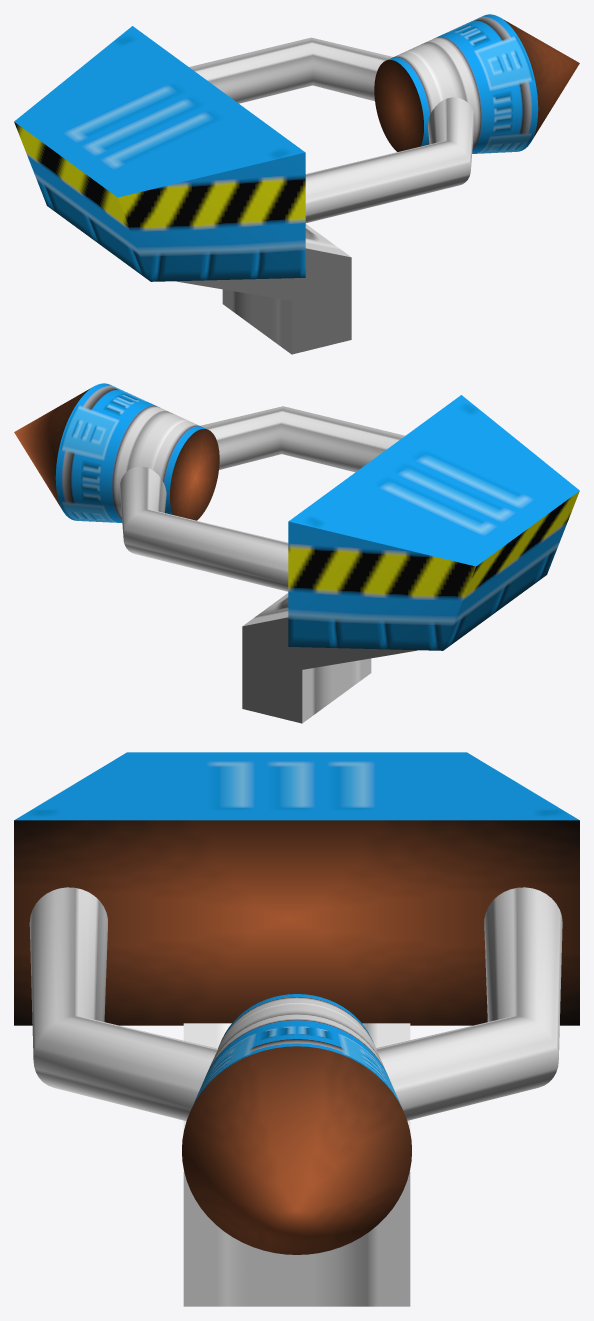
File: canoni1_alt.obj
3 renders of one model, top to bottom at view 1: azimuth 30°, elevation 25°; view 2: azimuth 150°, elevation 25°; view 3: azimuth 270°, elevation 25°, orthographic. The views are drawn at different scales.
Visible parts, largest first — view 1: Case_ColobotMesh_.003, New_canon_Circle, Holder_new_ColobotMesh_.004, Stand_ColobotMesh_.001; view 2: Case_ColobotMesh_.003, New_canon_Circle, Holder_new_ColobotMesh_.004, Stand_ColobotMesh_.001; view 3: Case_ColobotMesh_.003, New_canon_Circle, Holder_new_ColobotMesh_.004, Stand_ColobotMesh_.001.
Part boxes in pixels (box(x1,y1,x2,y2)): Case_ColobotMesh_.003: box(14, 26, 305, 281); New_canon_Circle: box(374, 14, 579, 153); Holder_new_ColobotMesh_.004: box(189, 37, 474, 222); Stand_ColobotMesh_.001: box(177, 224, 351, 354); Case_ColobotMesh_.003: box(288, 395, 579, 650); New_canon_Circle: box(14, 383, 219, 522); Holder_new_ColobotMesh_.004: box(119, 406, 404, 591); Stand_ColobotMesh_.001: box(242, 593, 416, 723); Case_ColobotMesh_.003: box(14, 752, 579, 1025); New_canon_Circle: box(182, 994, 411, 1254); Holder_new_ColobotMesh_.004: box(29, 887, 562, 1121); Stand_ColobotMesh_.001: box(183, 1023, 410, 1306).
Size of the model in its own units: 8.58 by 3.99 by 5.
